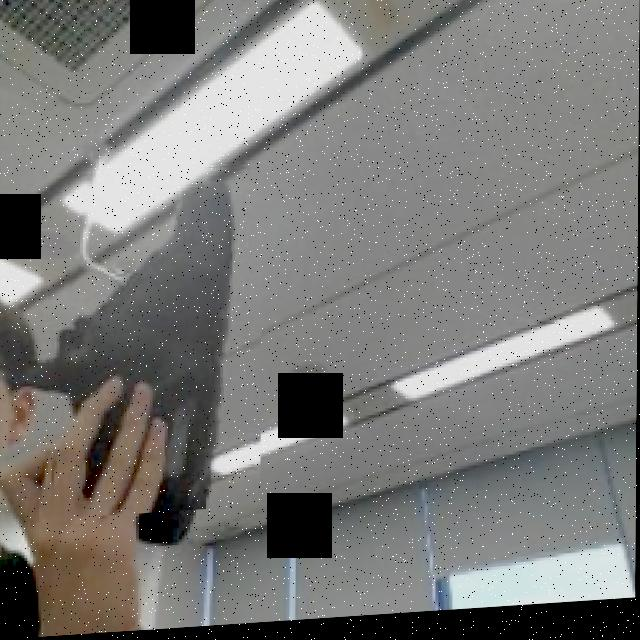shoe: (43, 164, 263, 521)
